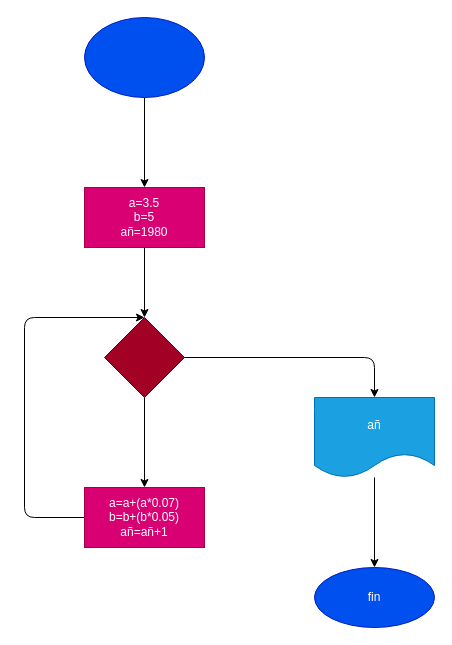
The diagram is 452 pixels wide and 645 high, and some of its shapes have lost their labels. Here are the shapes that lost their labels. From the top down, the box of each, then its label:
(84, 16, 204, 98): inicio
(104, 316, 184, 398): a>b
